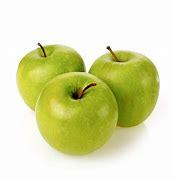apple: (32, 71, 121, 157), (88, 48, 159, 125), (8, 34, 83, 103)
